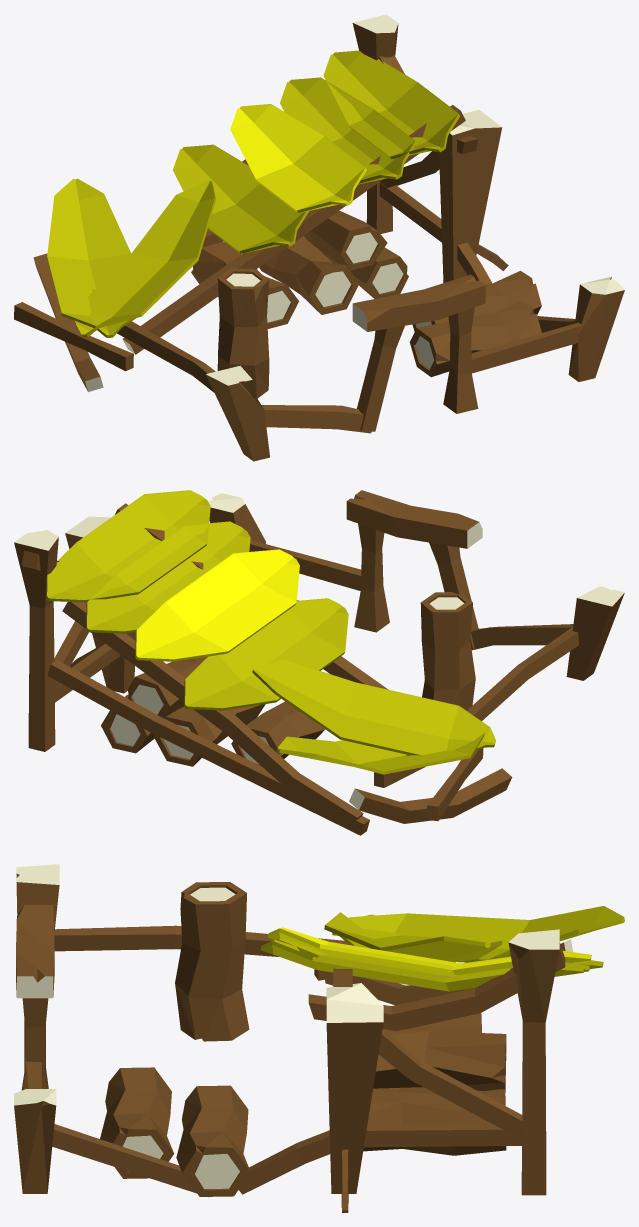
The model's file is Wood_storage_3.fbx.
The picture shows the model from 3 angles, top to bottom: view 1: azimuth 30°, elevation 25°; view 2: azimuth 150°, elevation 25°; view 3: azimuth 270°, elevation 25°; orthographic projection. The views are drawn at different scales.
Visible parts, largest first — view 1: Cube.018; view 2: Cube.018; view 3: Cube.018.
Part boxes in pixels (<box>): Cube.018: <box>14,14,624,461</box>; Cube.018: <box>14,490,624,835</box>; Cube.018: <box>14,864,624,1212</box>.
Size of the model in its own units: 6 by 6 by 3.
